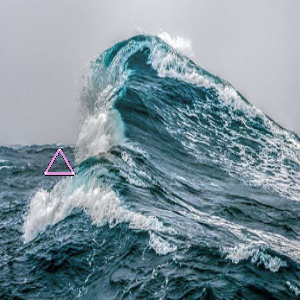triangle: (42, 145, 78, 179)
